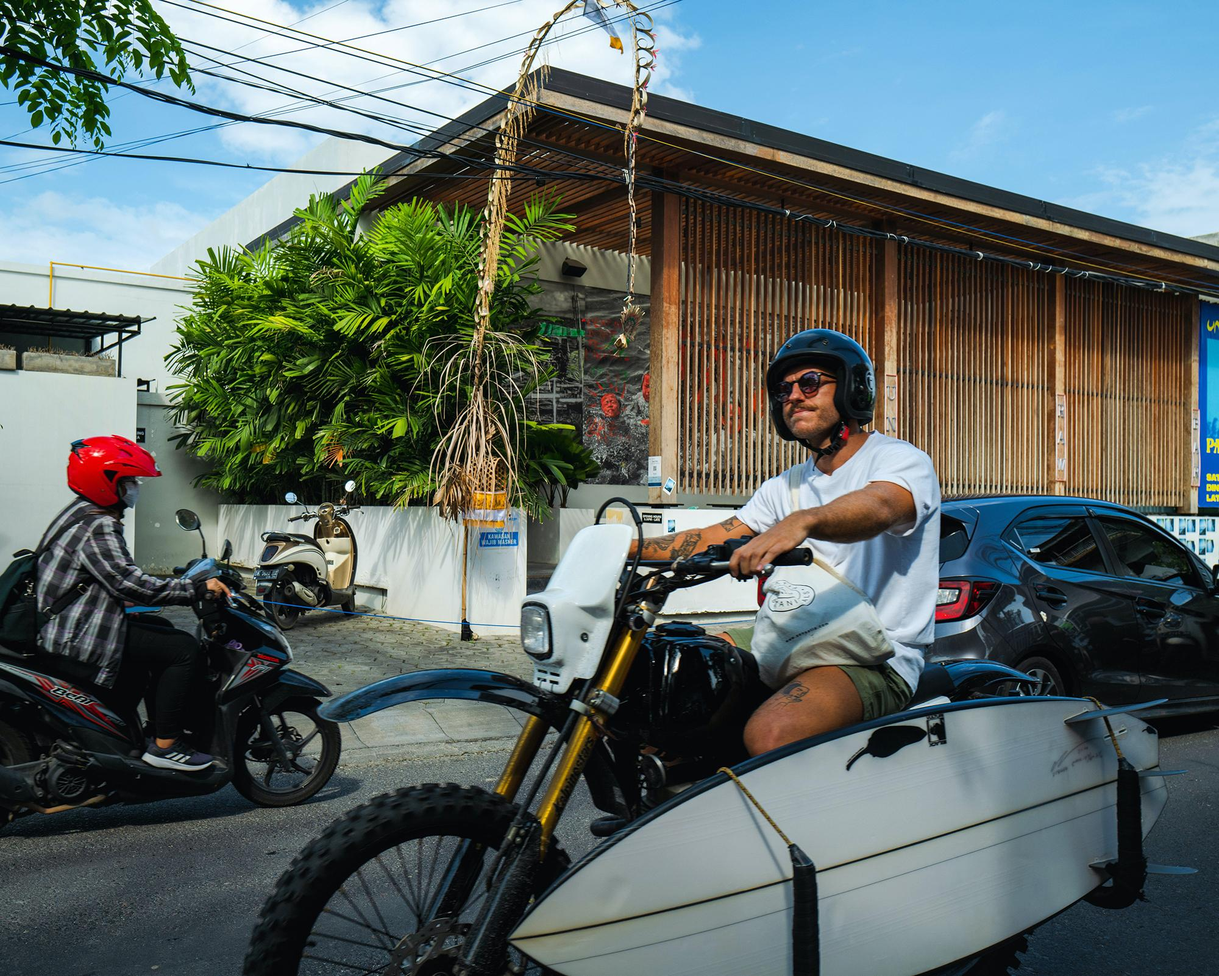helmet: (765, 327, 878, 472), (66, 433, 164, 513)
